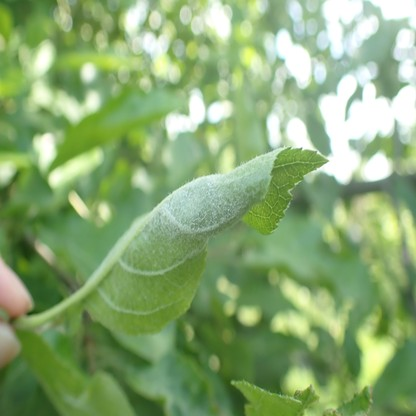powdery_mildew: (95, 147, 287, 316)
